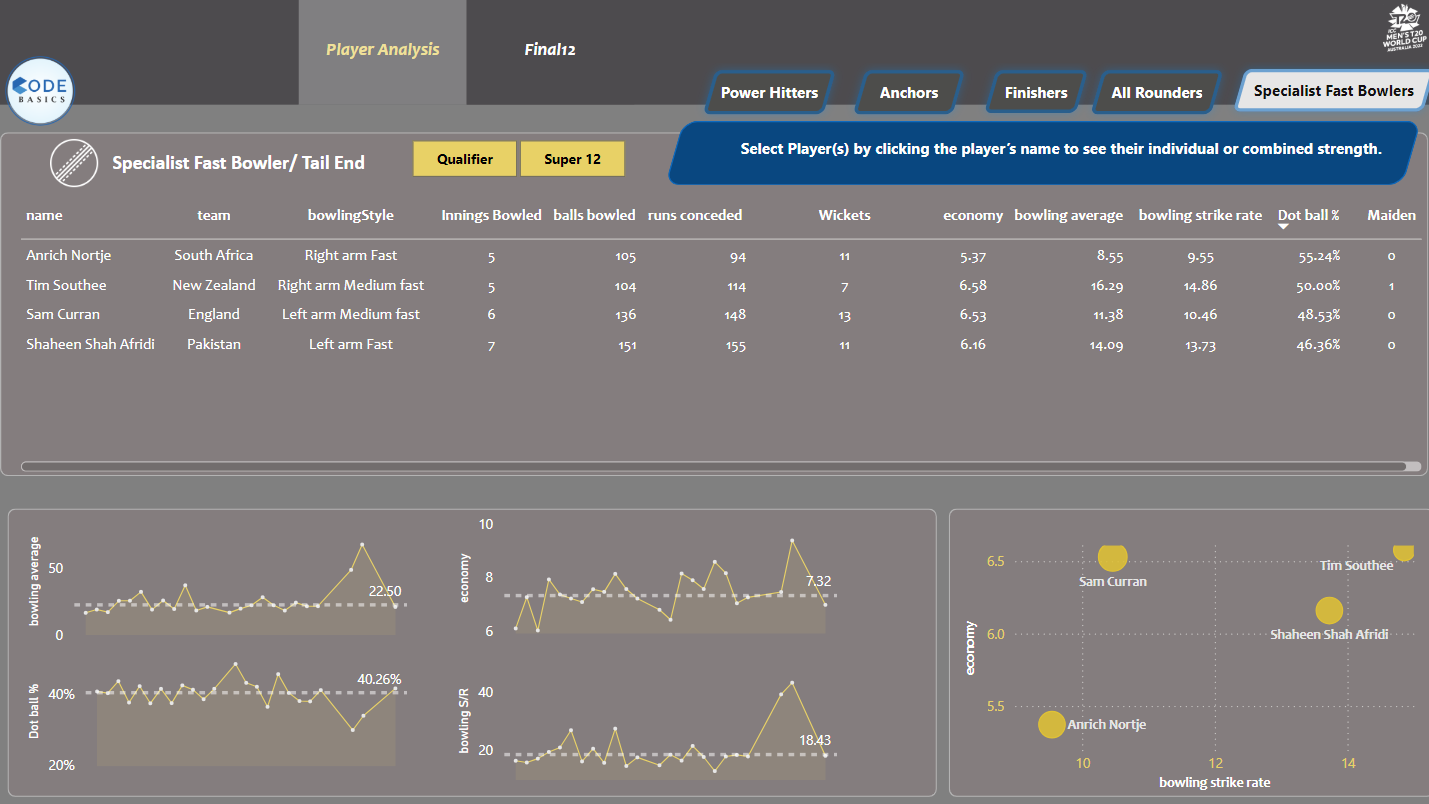

What the dashboard file says about the page in this screenshot:
{"tool":"powerbi","page":{"name":"New Specialist Fast Bowlers / Tail End","canvas":[1280,720],"ordinal":4},"visuals":[{"type":"shape","box":[843.8,455,427.5,253.8],"z":0},{"type":"shape","box":[8.8,123.8,1256.2,302.5],"z":1000},{"type":"image","box":[43.8,125,60,52.5],"z":2000},{"type":"image","box":[10,10,44,36],"z":3000},{"type":"tableEx","fields":{"Values":["dm_players.name","dm_players.team","dim_players.bowlingStyle","key measures.total innings bowled","key measures.balls bowled","key measures.runs conceded","key measures.Wickets","key measures.economy","key measures.bowling average","key measures.bowling strike rate","key measures.Dot ball %","Sum(fact_bowling_summary.maiden)"]},"box":[21.2,171.2,1243.8,256.2],"z":4000},{"type":"shape","box":[0,0,1280,100.2],"z":5000},{"type":"slicer","fields":{"Values":["dm_match_summary.stage"]},"box":[345,123.8,237.5,46.2],"z":6000},{"type":"shape","box":[593.7,114.4,665.2,56.3],"z":7000},{"type":"card","fields":{"Values":["key measures.Batting Average"]},"box":[830.2,103.2,94.7,64.7],"z":8000},{"type":"card","fields":{"Values":["key measures.boundary %"]},"box":[934.5,103.2,95.9,64.7],"z":9000},{"type":"card","fields":{"Values":["key measures.strike rate"]},"box":[1040,103.2,94.7,65.9],"z":10000},{"type":"card","fields":{"Values":["key measures.avg balls faced"]},"box":[1140.7,103.2,94.7,64.7],"z":11000},{"type":"shape","box":[627.2,125.2,202.5,36],"z":12000},{"type":"actionButton","box":[619.6,61.1,133.1,55],"z":13000},{"type":"actionButton","box":[751.5,61.1,114.8,55],"z":14000},{"type":"actionButton","box":[866.2,61.2,107.5,53.8],"z":15000},{"type":"actionButton","box":[960.3,61.1,133.1,55],"z":16000},{"type":"actionButton","box":[1085.7,60.7,194,53.6],"z":17000},{"type":"shape","box":[15,455,817.5,253.8],"z":18000},{"type":"areaChart","fields":{"Category":["dm_match_summary.matchDate.Variation.Date Hierarchy.Year","dm_match_summary.matchDate.Variation.Date Hierarchy.Quarter","dm_match_summary.matchDate.Variation.Date Hierarchy.Month","dm_match_summary.matchDate.Variation.Date Hierarchy.Day"],"Y":["key measures.bowling average"]},"box":[28.1,458,343.2,122.1],"z":19000},{"type":"areaChart","fields":{"Y":["key measures.economy"],"Category":["dm_match_summary.matchDate.Variation.Date Hierarchy.Year","dm_match_summary.matchDate.Variation.Date Hierarchy.Quarter","dm_match_summary.matchDate.Variation.Date Hierarchy.Month","dm_match_summary.matchDate.Variation.Date Hierarchy.Day"]},"box":[406.7,455.6,343.2,122.1],"z":20000},{"type":"areaChart","fields":{"Category":["dm_match_summary.matchDate.Variation.Date Hierarchy.Year","dm_match_summary.matchDate.Variation.Date Hierarchy.Quarter","dm_match_summary.matchDate.Variation.Date Hierarchy.Month","dm_match_summary.matchDate.Variation.Date Hierarchy.Day"],"Y":["key measures.Dot ball %"]},"box":[28.1,572.8,343.2,122.1],"z":21000},{"type":"areaChart","fields":{"Y":["key measures.bowling strike rate"],"Category":["dm_match_summary.matchDate.Variation.Date Hierarchy.Year","dm_match_summary.matchDate.Variation.Date Hierarchy.Quarter","dm_match_summary.matchDate.Variation.Date Hierarchy.Month","dm_match_summary.matchDate.Variation.Date Hierarchy.Day"]},"box":[406.7,577.7,343.2,122.1],"z":22000},{"type":"actionButton","box":[271.1,0,147.8,100.2],"z":23000},{"type":"actionButton","box":[418.9,0,147.8,100.2],"z":24000},{"type":"shape","box":[82.5,130,272.5,41.2],"z":25000},{"type":"scatterChart","fields":{"Category":["dim_players.name"],"X":["key measures.bowling strike rate"],"Y":["key measures.economy"],"Size":["key measures.Wickets"]},"box":[852.5,475,412.5,233.8],"z":26000},{"type":"image","box":[6.2,50,75,77.5],"z":27000},{"type":"shape","box":[658.8,123.8,567.5,27.5],"z":28000},{"type":"image","box":[1220,3,48,59],"z":29000}]}

Visuals, with their boxes in screenshot pixels (x1, y1, x2, y2), scaled from the page's 1280x720 canvas onto the 1429x804 screenshot:
shape: [942, 508, 1419, 791]
shape: [10, 138, 1412, 476]
image: [49, 140, 116, 198]
image: [11, 11, 60, 51]
tableEx - dm_players.name x dm_players.team: [24, 191, 1412, 477]
shape: [0, 0, 1428, 112]
slicer - dm_match_summary.stage: [385, 138, 650, 190]
shape: [663, 128, 1405, 191]
card - key measures.Batting Average: [927, 115, 1033, 187]
card - key measures.boundary %: [1043, 115, 1150, 187]
card - key measures.strike rate: [1161, 115, 1267, 189]
card - key measures.avg balls faced: [1273, 115, 1379, 187]
shape: [700, 140, 926, 180]
actionButton: [692, 68, 840, 130]
actionButton: [839, 68, 967, 130]
actionButton: [967, 68, 1087, 128]
actionButton: [1072, 68, 1221, 130]
actionButton: [1212, 68, 1428, 128]
shape: [17, 508, 929, 791]
areaChart - dm_match_summary.matchDate.Variation.Date Hierarchy.Year x dm_match_summary.matchDate.Variation.Date Hierarchy.Quarter: [31, 511, 415, 648]
areaChart - key measures.economy x dm_match_summary.matchDate.Variation.Date Hierarchy.Year: [454, 509, 837, 645]
areaChart - dm_match_summary.matchDate.Variation.Date Hierarchy.Year x dm_match_summary.matchDate.Variation.Date Hierarchy.Quarter: [31, 640, 415, 776]
areaChart - key measures.bowling strike rate x dm_match_summary.matchDate.Variation.Date Hierarchy.Year: [454, 645, 837, 781]
actionButton: [303, 0, 468, 112]
actionButton: [468, 0, 633, 112]
shape: [92, 145, 396, 191]
scatterChart - dim_players.name x key measures.bowling strike rate: [952, 530, 1412, 791]
image: [7, 56, 91, 142]
shape: [735, 138, 1369, 169]
image: [1362, 3, 1416, 69]
